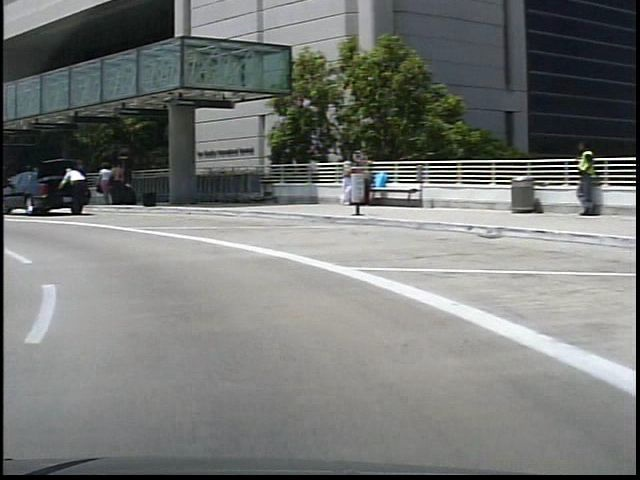person: (561, 137, 590, 218), (53, 166, 85, 219), (105, 159, 121, 209), (92, 164, 105, 204)
